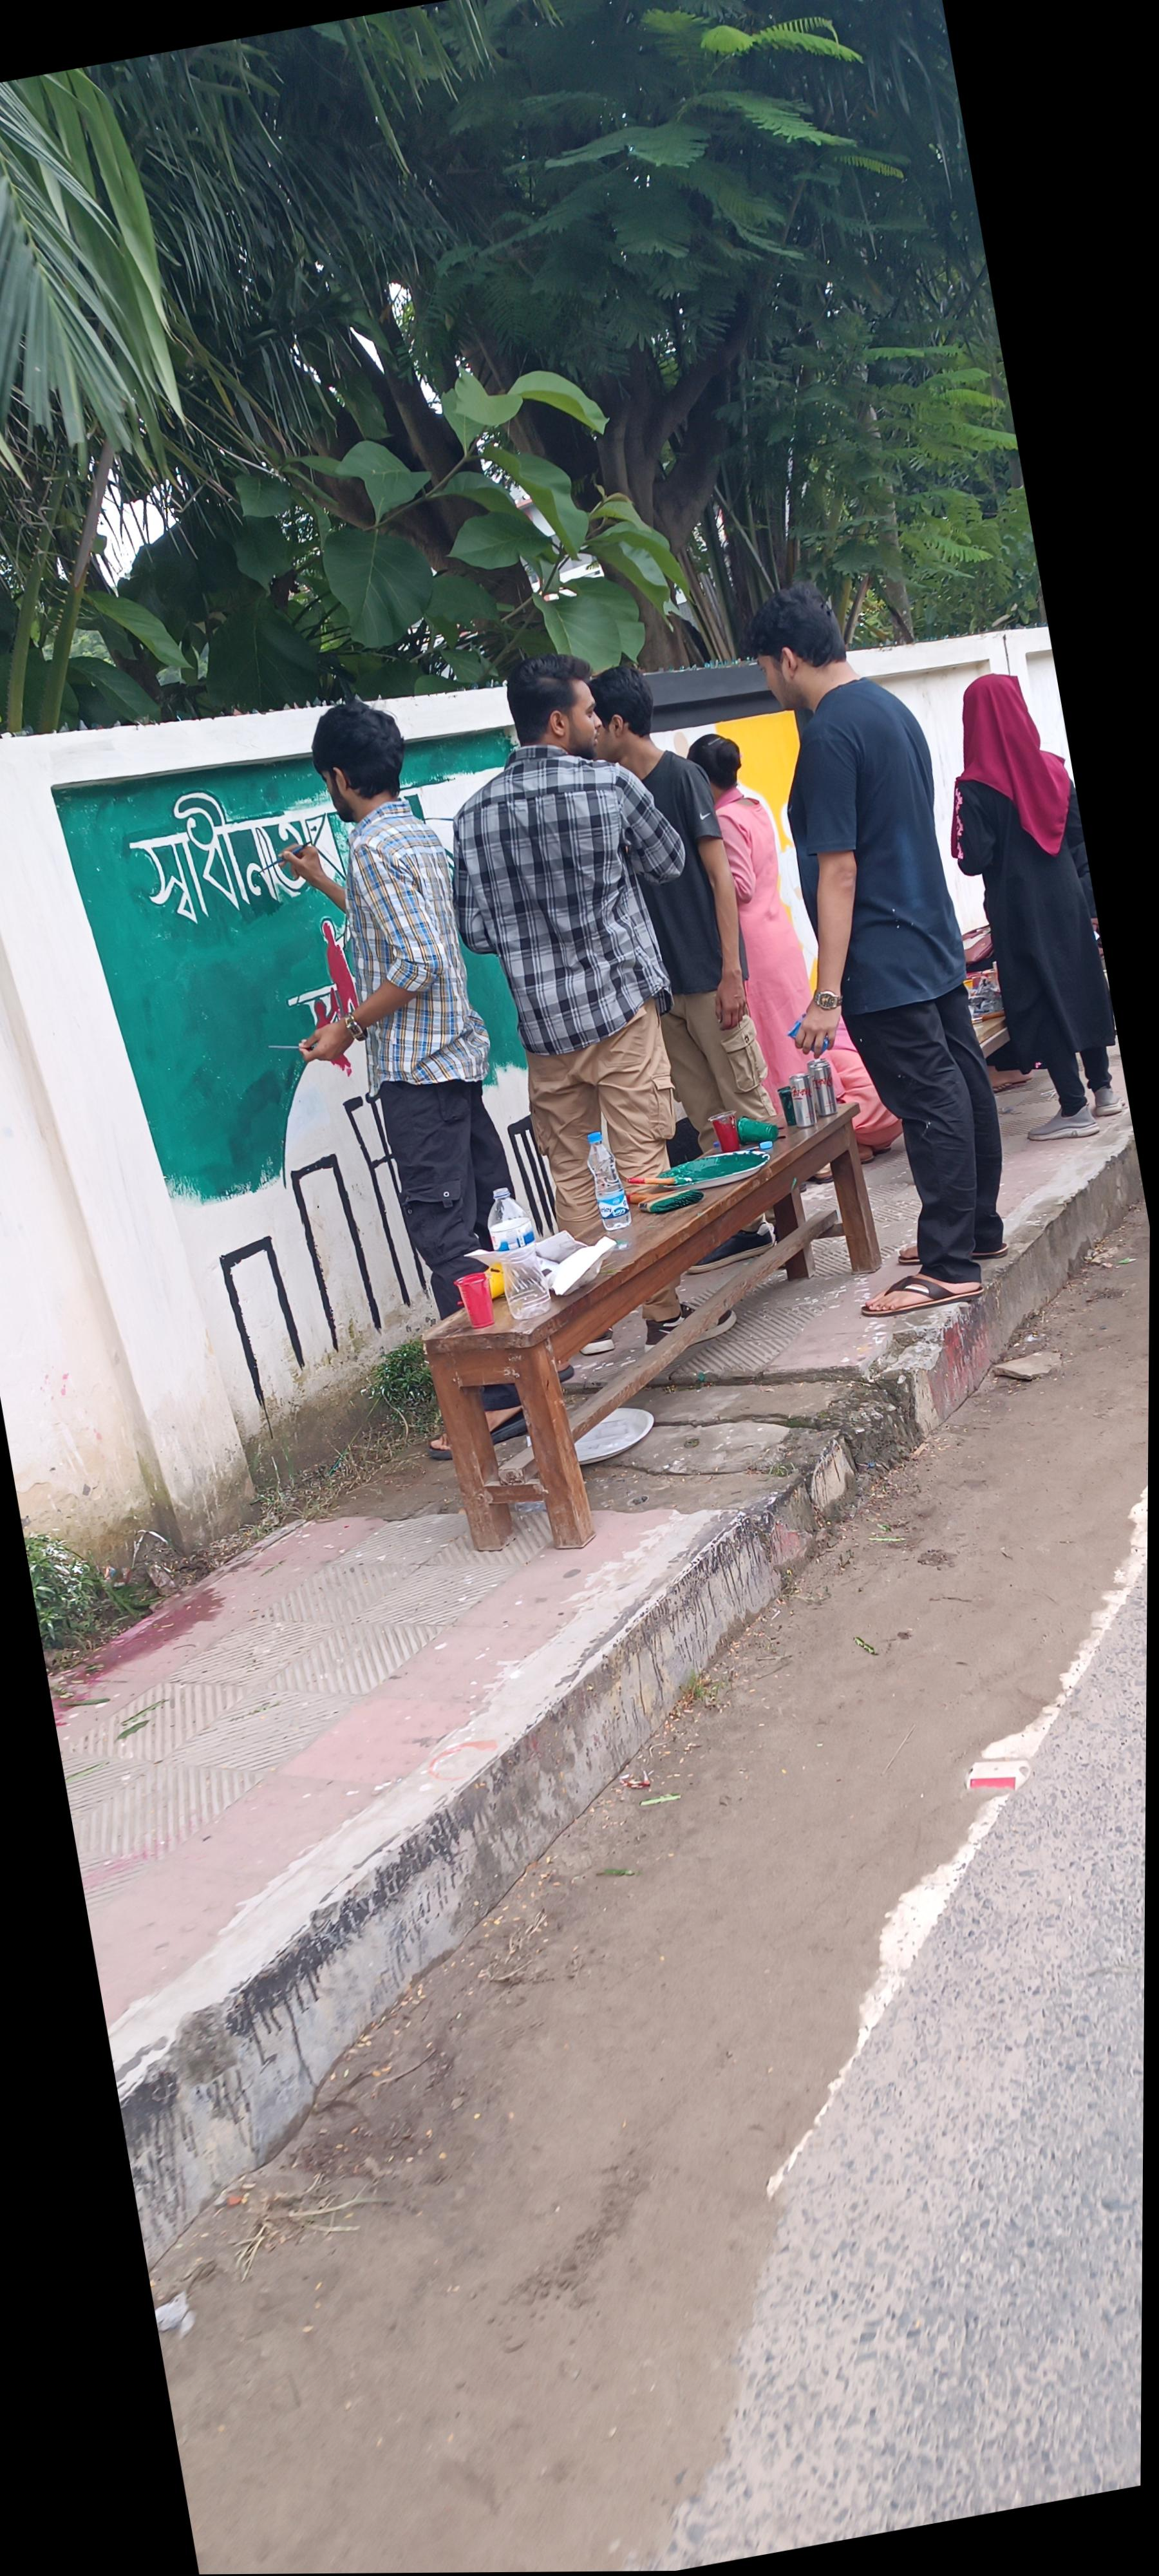Garbage-bin: (205, 751, 568, 1490), (33, 798, 364, 1590), (502, 680, 829, 1444), (368, 764, 601, 1388), (717, 777, 932, 1267), (476, 838, 645, 1313)
